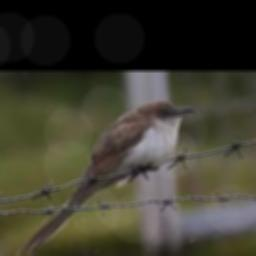Cuckoo: (15, 101, 196, 256)
